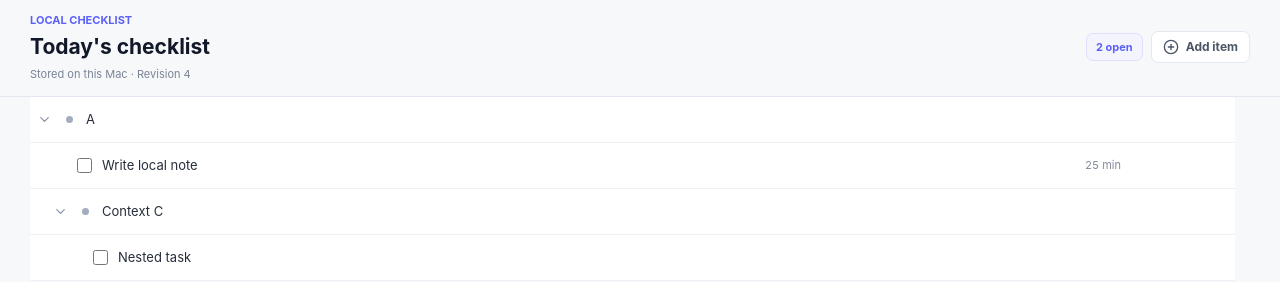
Test: collapses and restores a nested group in session state
Click the button named "Collapse A". click: (44, 120)
box: left=34, top=108, right=54, bottom=132
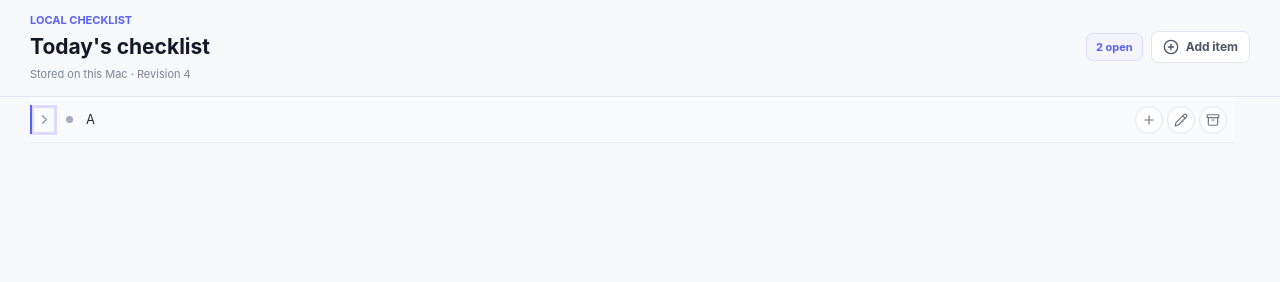
Expected: the text "Write local note" is gone
Click the button named "Expand A". click: (44, 120)
box: left=34, top=108, right=54, bottom=132
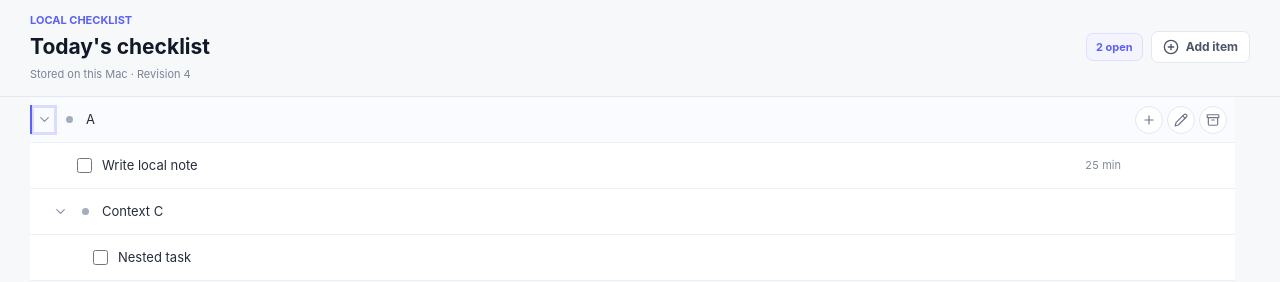
Expected: the text "Write local note" is shown, left=102, top=157, right=198, bottom=173
